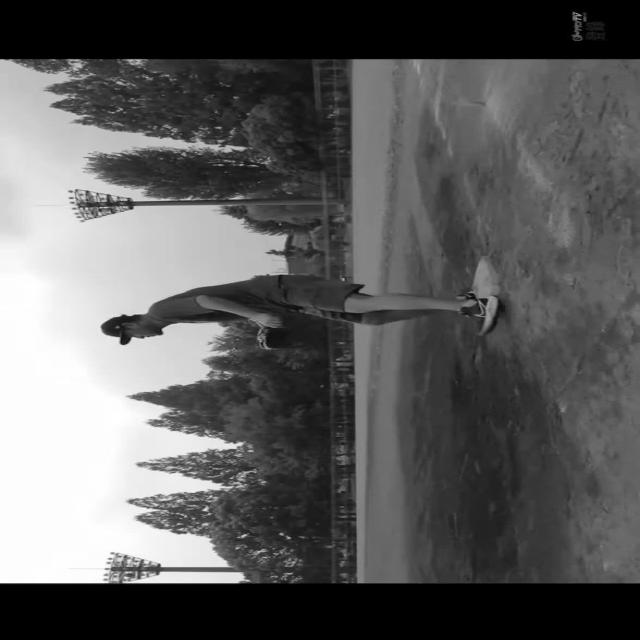base: (469, 251, 501, 303)
baseball_glove: (253, 322, 304, 349)
shoe: (460, 294, 498, 336)
